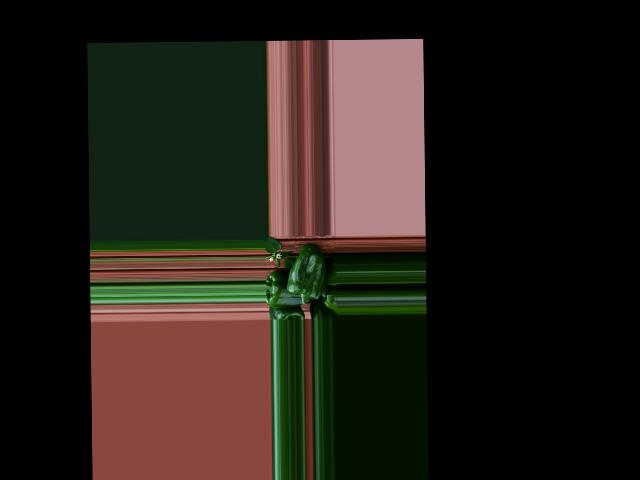bell_pepper: (320, 290, 338, 316)
